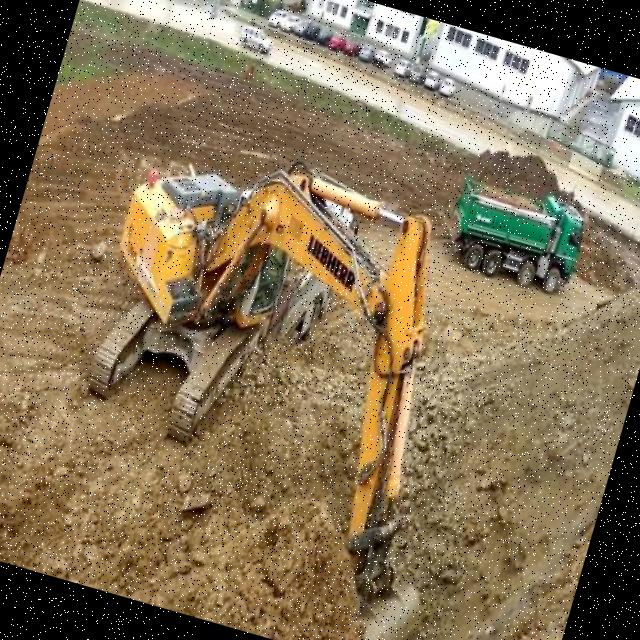Dump Truck: (438, 166, 593, 299)
Excavator: (22, 115, 535, 640)
